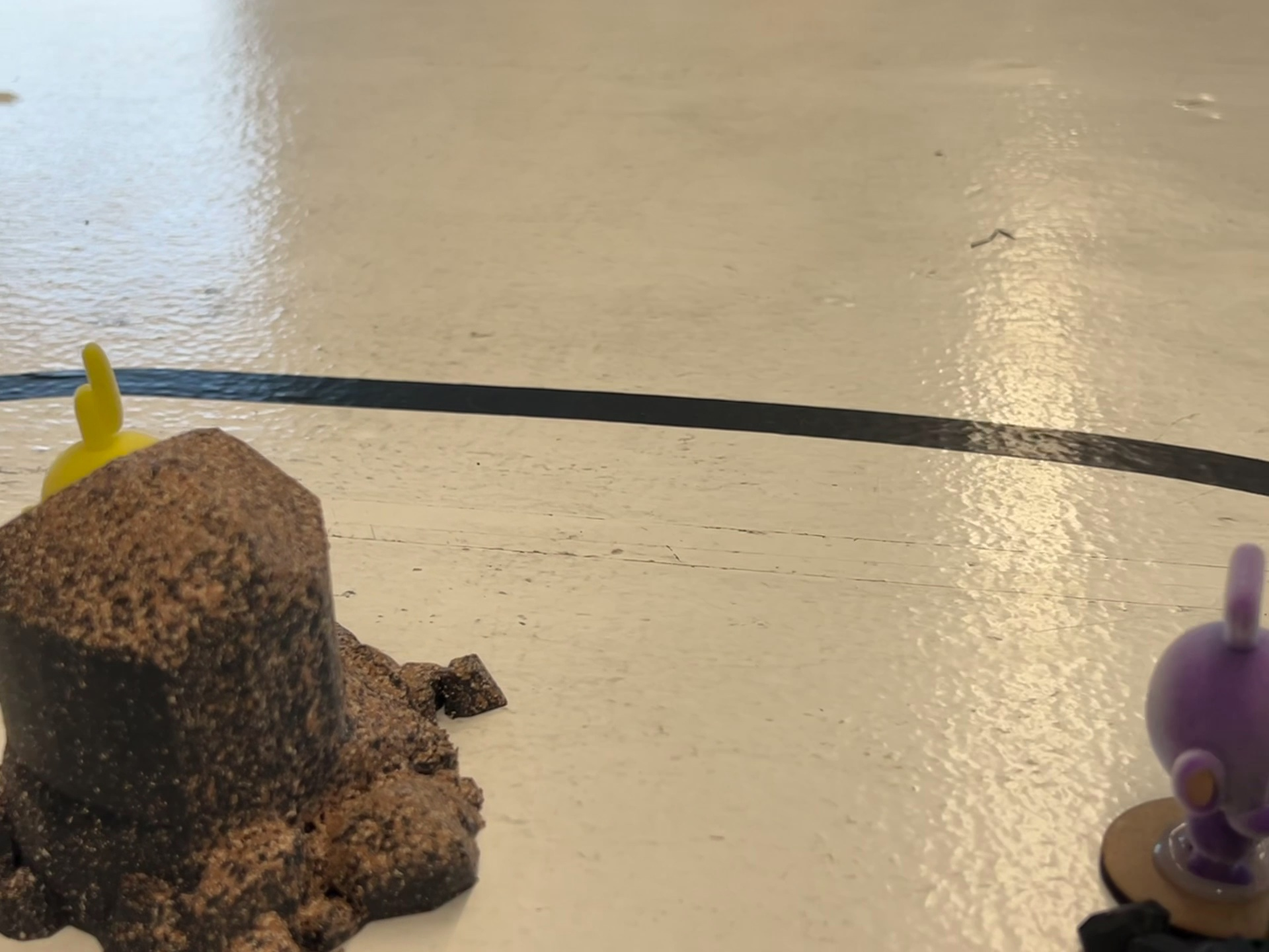teletubby: (1147, 545, 1268, 890), (42, 343, 157, 500)
